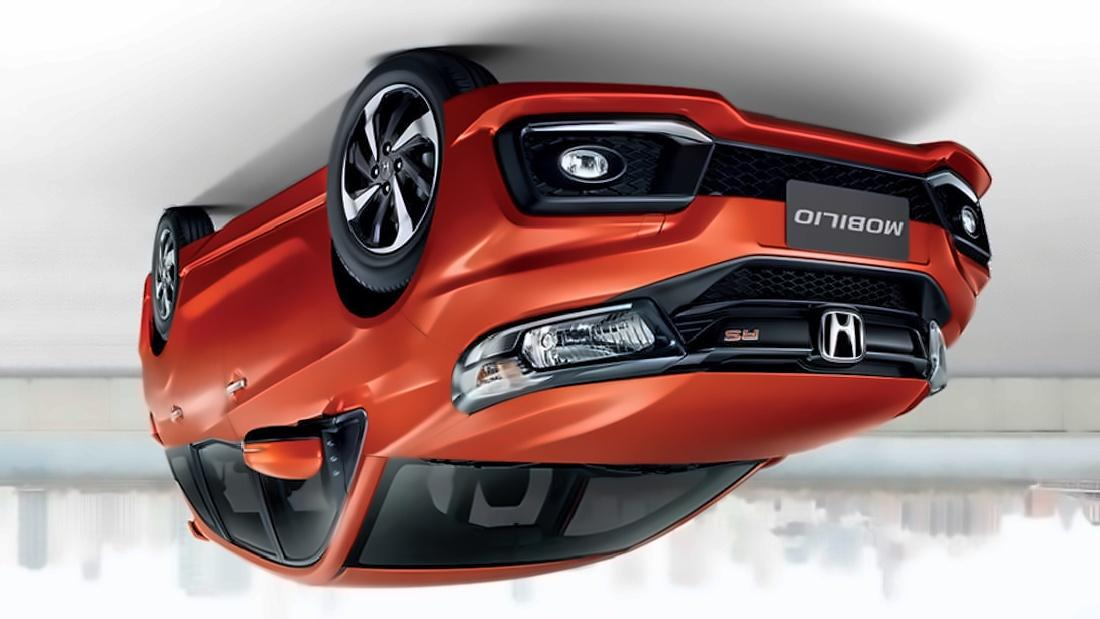Car hood: (373, 373, 934, 469)
Fender - -F-L-: (312, 137, 457, 437)
Fender - -R-L-: (133, 246, 212, 488)
Front bumper: (393, 78, 998, 349)
Headlight - -L-: (450, 291, 689, 418)
Headlight - -R-: (923, 320, 956, 396)
Passenger-s door - -F-L-: (203, 155, 373, 591)
Passenger-s door - -R-L-: (155, 166, 293, 591)
Side bumper - -L-: (168, 149, 334, 331)
Side mirror - -L-: (237, 417, 341, 486)
